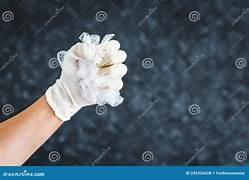Glove: (46, 33, 126, 120)
